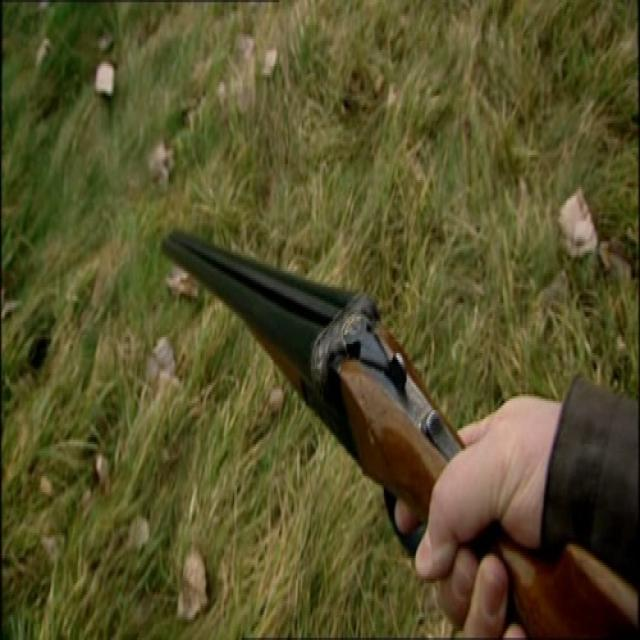rifle: (157, 220, 640, 640)
